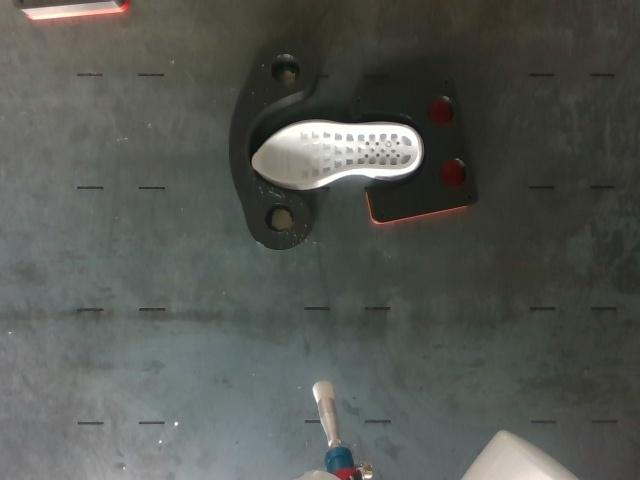shoes: (252, 123, 419, 185)
